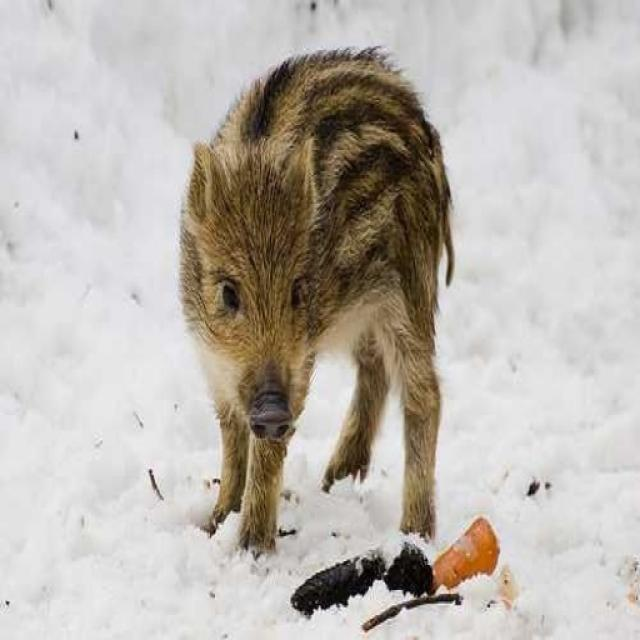pig: (124, 0, 480, 588)
